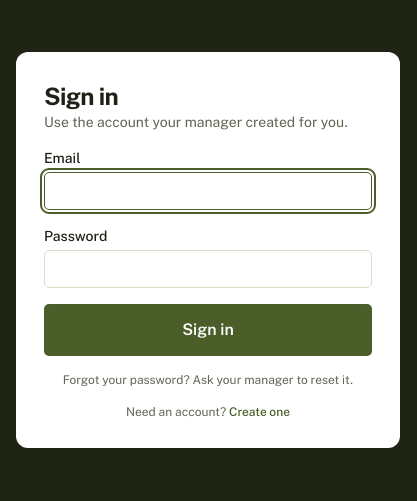
it: signing in › shows a clear message when the approval email cannot be sent, and stays on the form
This screenshot has width=417, height=501.
Type " ann@shop.test " into the field labelled "Email". click: (208, 191)
box: [44, 172, 372, 210]
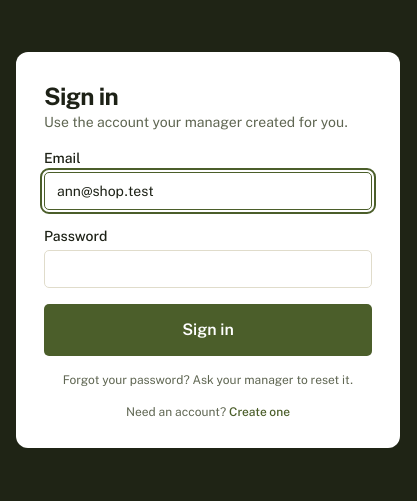
Type "pass-word-1" into the password field labelled "Password". click: (208, 269)
box: [44, 250, 372, 288]
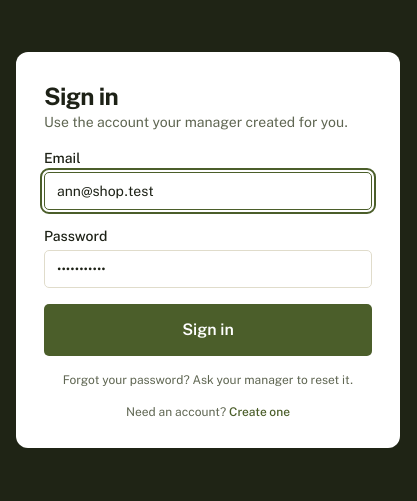
Click the button "Sign in". click: (208, 330)
box: [44, 304, 372, 356]
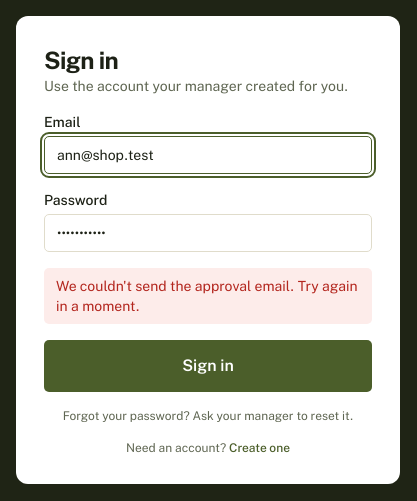
Expected: the button "Sign in" is shown, [44, 340, 372, 392]
Expected: the message shows "couldn't send the approval email", [56, 278, 358, 314]
